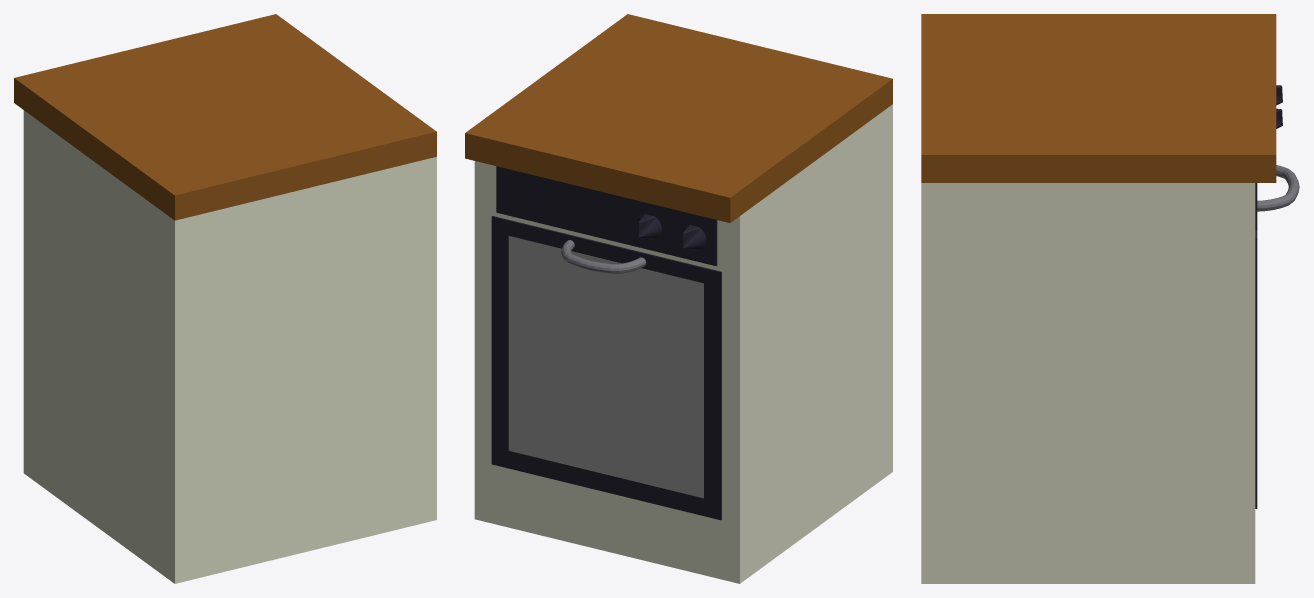
The model's file is meuble four .fbx.
3 renders of one model, left to right at view 1: azimuth 30°, elevation 25°; view 2: azimuth 150°, elevation 25°; view 3: azimuth 270°, elevation 25°, orthographic. The views are drawn at different scales.
Parts seen in each view (by area): view 1: four; view 2: four; view 3: four.
Boxes of the visible parts, x1,y1,x2,y2 form: four: (14,14,436,583); four: (465,14,892,583); four: (921,14,1299,583).
Bounding box in the file's own units: 60 × 85 × 67.95.
